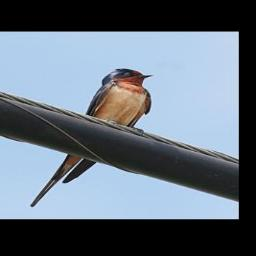Swallow: (30, 67, 154, 207)
